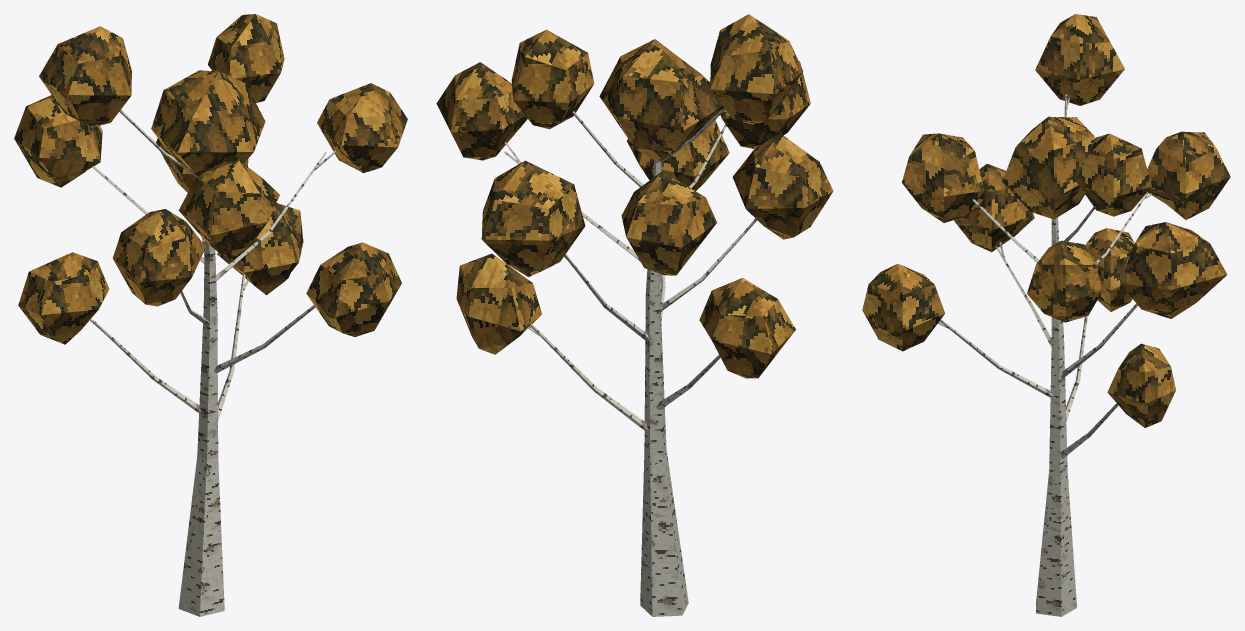
The model's file is TREE_Birch_Autumn_B_LOD2.glb.
The picture shows the model from 3 angles, left to right: view 1: azimuth 30°, elevation 25°; view 2: azimuth 150°, elevation 25°; view 3: azimuth 270°, elevation 25°; orthographic projection. The views are drawn at different scales.
Visible parts, largest first — view 1: TREE_Birch_Autumn_B_LOD2__Foliage, TREE_Birch_Autumn_B_LOD2__Bark; view 2: TREE_Birch_Autumn_B_LOD2__Foliage, TREE_Birch_Autumn_B_LOD2__Bark; view 3: TREE_Birch_Autumn_B_LOD2__Foliage, TREE_Birch_Autumn_B_LOD2__Bark.
Part boxes in pixels (<box>): TREE_Birch_Autumn_B_LOD2__Foliage: <box>14,14,407,344</box>; TREE_Birch_Autumn_B_LOD2__Bark: <box>89,109,336,616</box>; TREE_Birch_Autumn_B_LOD2__Foliage: <box>436,14,833,378</box>; TREE_Birch_Autumn_B_LOD2__Bark: <box>504,108,757,616</box>; TREE_Birch_Autumn_B_LOD2__Foliage: <box>862,14,1230,427</box>; TREE_Birch_Autumn_B_LOD2__Bark: <box>938,94,1152,616</box>.
Bounding box in the file's own units: 6.64 × 10.64 × 6.43.
2 materials, 2 textured.
